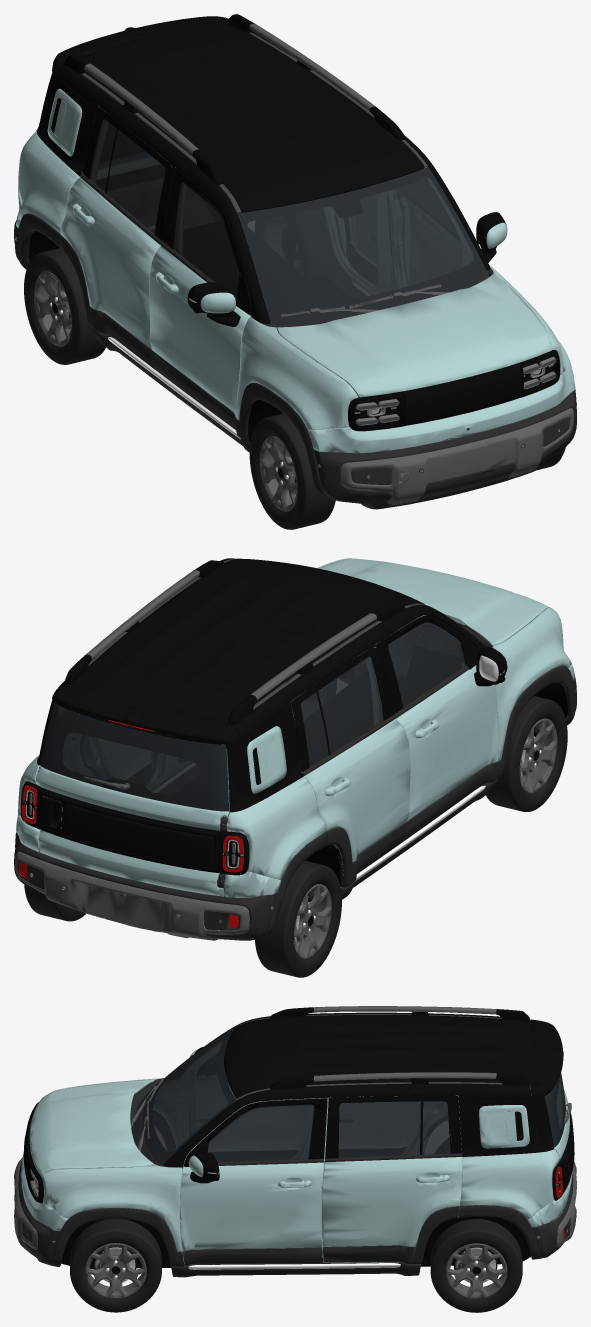
File: spark_euv.glb
The picture shows the model from 3 angles, top to bottom: view 1: azimuth 30°, elevation 25°; view 2: azimuth 150°, elevation 25°; view 3: azimuth 270°, elevation 25°; orthographic projection. The views are drawn at different scales.
Parts seen in each view (by area): view 1: pCube2.017_EXT_CarPaint_0, polySurface19.007_EXT_CarPaint_2_0, polySurface2.006_Windows_0, patch_EXT_Plastic_S, polySurface36.004_EXT_Plastic_0, pCylinder1.011_EXT_Gray_Plas_Met_0, pCylinder21.007_EXT_TYRE_SIDE.001_0, pCylinder21.006_Tire_1_0, polySurface22.004_EXT_Glass_Light_0, polySurface16.004_Details_0, FRONT_DOOR.054_EXT_Chrome_0, Plane.046_Chassis_0 (+2 smaller); view 2: pCube2.017_EXT_CarPaint_0, polySurface19.007_EXT_CarPaint_2_0, polySurface2.006_Windows_0, patch_EXT_Plastic_S, pCylinder1.011_EXT_Gray_Plas_Met_0, polySurface36.004_EXT_Plastic_0, pCylinder21.007_EXT_TYRE_SIDE.001_0, pCylinder21.006_Tire_1_0, polySurface22.004_EXT_Glass_Light_0, Plane.046_Chassis_0, FRONT_DOOR.054_EXT_Chrome_0, REAR_DOOR.033_EXT_Rubber_0 (+2 smaller); view 3: pCube2.017_EXT_CarPaint_0, polySurface19.007_EXT_CarPaint_2_0, polySurface2.006_Windows_0, polySurface36.004_EXT_Plastic_0, patch_EXT_Plastic_S, pCylinder1.011_EXT_Gray_Plas_Met_0, pCylinder21.007_EXT_TYRE_SIDE.001_0, pCylinder21.006_Tire_1_0, Plane.046_Chassis_0, FRONT_DOOR.054_EXT_Chrome_0, polySurface22.004_EXT_Glass_Light_0, REAR_DOOR.033_EXT_Rubber_0 (+2 smaller).
Boxes of the visible parts, x1=… form: pCube2.017_EXT_CarPaint_0: x1=16, y1=88, x2=575, y2=453; polySurface19.007_EXT_CarPaint_2_0: x1=52, y1=16, x2=490, y2=324; polySurface2.006_Windows_0: x1=90, y1=119, x2=486, y2=326; patch_EXT_Plastic_S: x1=37, y1=14, x2=559, y2=478; polySurface36.004_EXT_Plastic_0: x1=14, y1=130, x2=576, y2=509; pCylinder1.011_EXT_Gray_Plas_Met_0: x1=15, y1=23, x2=573, y2=511; pCylinder21.007_EXT_TYRE_SIDE.001_0: x1=24, y1=255, x2=305, y2=528; pCylinder21.006_Tire_1_0: x1=30, y1=248, x2=565, y2=529; polySurface22.004_EXT_Glass_Light_0: x1=187, y1=297, x2=560, y2=431; polySurface16.004_Details_0: x1=40, y1=218, x2=569, y2=499; FRONT_DOOR.054_EXT_Chrome_0: x1=50, y1=297, x2=556, y2=483; Plane.046_Chassis_0: x1=28, y1=214, x2=555, y2=473; pCube2.017_EXT_CarPaint_0: x1=16, y1=558, x2=575, y2=897; polySurface19.007_EXT_CarPaint_2_0: x1=40, y1=558, x2=486, y2=867; polySurface2.006_Windows_0: x1=40, y1=622, x2=465, y2=811; patch_EXT_Plastic_S: x1=21, y1=560, x2=544, y2=926; pCylinder1.011_EXT_Gray_Plas_Met_0: x1=15, y1=570, x2=575, y2=959; polySurface36.004_EXT_Plastic_0: x1=14, y1=622, x2=576, y2=940; pCylinder21.007_EXT_TYRE_SIDE.001_0: x1=57, y1=702, x2=567, y2=976; pCylinder21.006_Tire_1_0: x1=24, y1=696, x2=561, y2=977; polySurface22.004_EXT_Glass_Light_0: x1=20, y1=669, x2=506, y2=897; Plane.046_Chassis_0: x1=45, y1=682, x2=567, y2=930; FRONT_DOOR.054_EXT_Chrome_0: x1=22, y1=612, x2=542, y2=931; REAR_DOOR.033_EXT_Rubber_0: x1=68, y1=558, x2=426, y2=724; pCube2.017_EXT_CarPaint_0: x1=20, y1=1048, x2=572, y2=1264; polySurface19.007_EXT_CarPaint_2_0: x1=163, y1=1012, x2=574, y2=1186; polySurface2.006_Windows_0: x1=141, y1=1026, x2=565, y2=1163; polySurface36.004_EXT_Plastic_0: x1=14, y1=1078, x2=573, y2=1277; patch_EXT_Plastic_S: x1=20, y1=1007, x2=572, y2=1274; pCylinder1.011_EXT_Gray_Plas_Met_0: x1=14, y1=1006, x2=576, y2=1299; pCylinder21.007_EXT_TYRE_SIDE.001_0: x1=71, y1=1231, x2=520, y2=1312; pCylinder21.006_Tire_1_0: x1=70, y1=1219, x2=522, y2=1312; Plane.046_Chassis_0: x1=39, y1=1056, x2=554, y2=1268; FRONT_DOOR.054_EXT_Chrome_0: x1=30, y1=1169, x2=558, y2=1278; polySurface22.004_EXT_Glass_Light_0: x1=27, y1=1102, x2=564, y2=1203; REAR_DOOR.033_EXT_Rubber_0: x1=236, y1=1014, x2=530, y2=1151.
Bounding box in the file's own units: 2.06 × 1.74 × 4.
24 materials, 3 textured.
